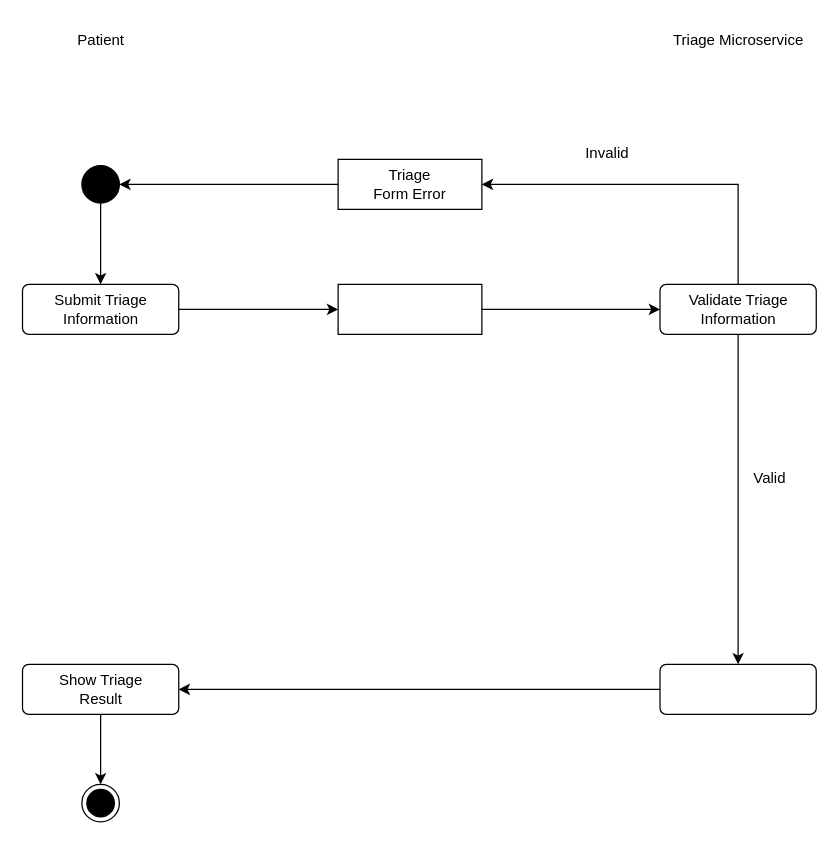
Some shapes in this 840 by 844 pixel diagram are drawn without their labels. Here are the shapes that lost their labels. From the top down, the centre of each, then its label:
point (409, 308): Triage Form Initial
point (737, 688): Return Triage Result
